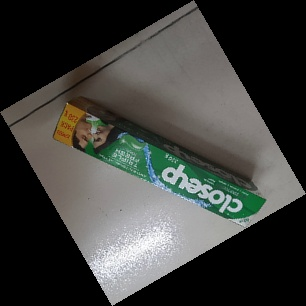CloseUp Xanh: (50, 98, 266, 230)
